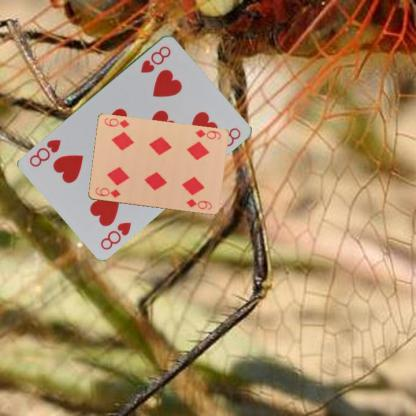6d: (192, 127, 222, 141), (92, 185, 121, 199)
8h: (98, 219, 133, 251), (138, 43, 172, 74)
